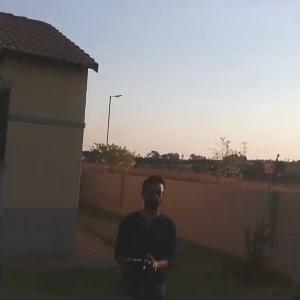follow: (110, 161, 180, 298)
